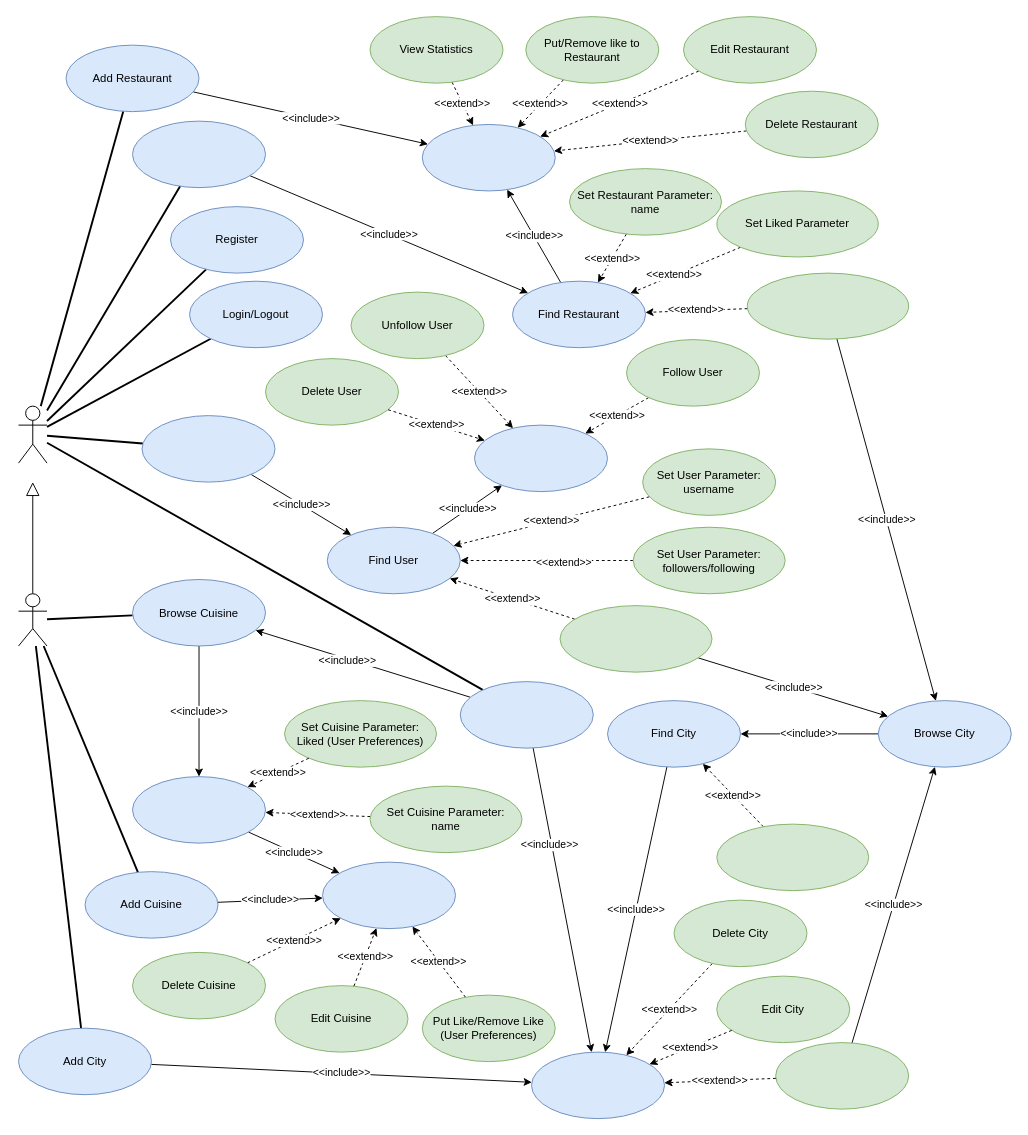
This 1028x1135 diagram has some shape labels left out. The shapes that lost their labels are listed below. From the top down, each one's centre as x and y in pixels, then its label:
(x=199, y=154): Browse Restaurant
(x=488, y=157): View Restaurant
(x=827, y=305): Set Recommendation Parameter
(x=32, y=434): User
(x=208, y=448): Browse User
(x=541, y=458): View User
(x=32, y=619): Admin
(x=635, y=638): Set Recommendation: Parameter
(x=526, y=714): View User Preferences
(x=199, y=809): Find Cuisine
(x=792, y=857): Set City Parameter: name
(x=389, y=895): View Cuisine
(x=598, y=1085): View City
(x=842, y=1075): Change User City (User Preferences)
